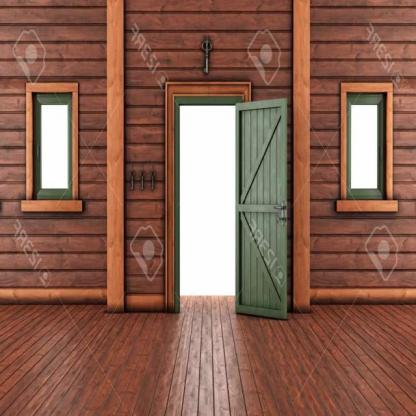door: (158, 70, 290, 327)
